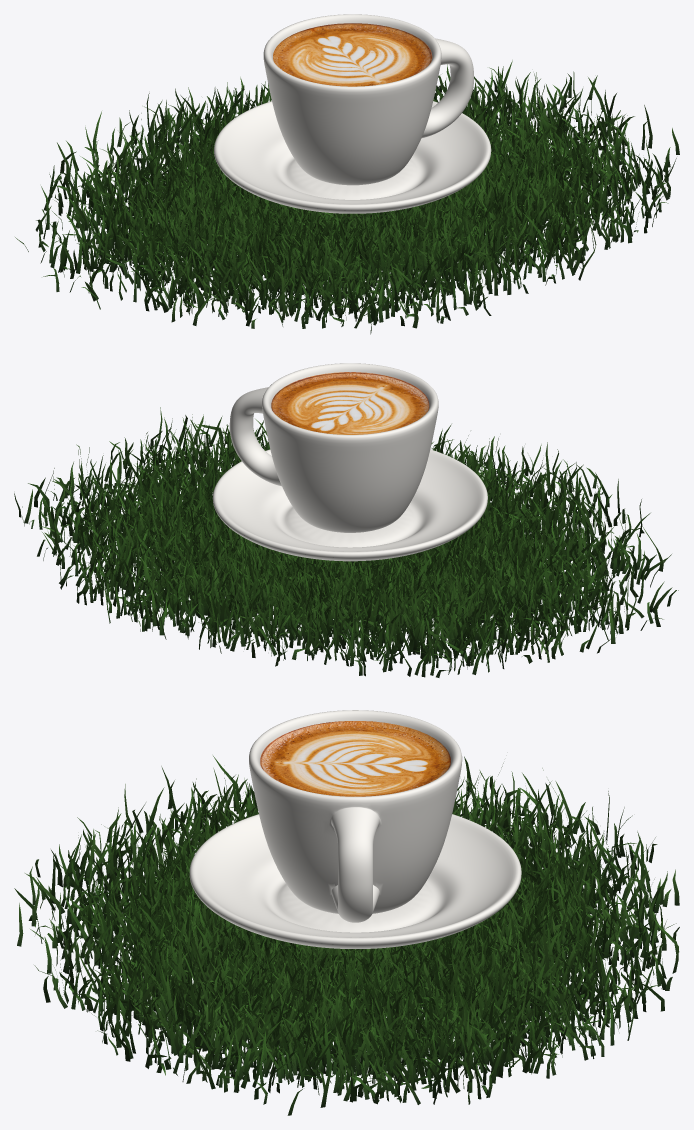
The model's file is latte-scene.glb.
The picture shows the model from 3 angles, top to bottom: view 1: azimuth 30°, elevation 25°; view 2: azimuth 150°, elevation 25°; view 3: azimuth 270°, elevation 25°; orthographic projection. The views are drawn at different scales.
Parts seen in each view (by area): view 1: Grass_Blades, Cup, Saucer, Coffee_Liquid; view 2: Grass_Blades, Cup, Saucer, Coffee_Liquid; view 3: Grass_Blades, Cup, Saucer, Coffee_Liquid.
Boxes of the visible parts, x1,y1,x2,y2 form: Grass_Blades: [15, 60, 679, 334]; Cup: [263, 14, 473, 185]; Saucer: [214, 101, 491, 213]; Coffee_Liquid: [273, 23, 432, 86]; Grass_Blades: [14, 407, 678, 677]; Cup: [229, 363, 438, 532]; Saucer: [212, 449, 487, 561]; Coffee_Liquid: [271, 372, 429, 434]; Grass_Blades: [14, 756, 679, 1115]; Cup: [249, 710, 462, 922]; Saucer: [189, 814, 521, 949]; Coffee_Liquid: [260, 721, 450, 796].
Bounding box in the file's own units: 1.09 × 0.2816 × 0.8579.
4 materials, 1 textured.
